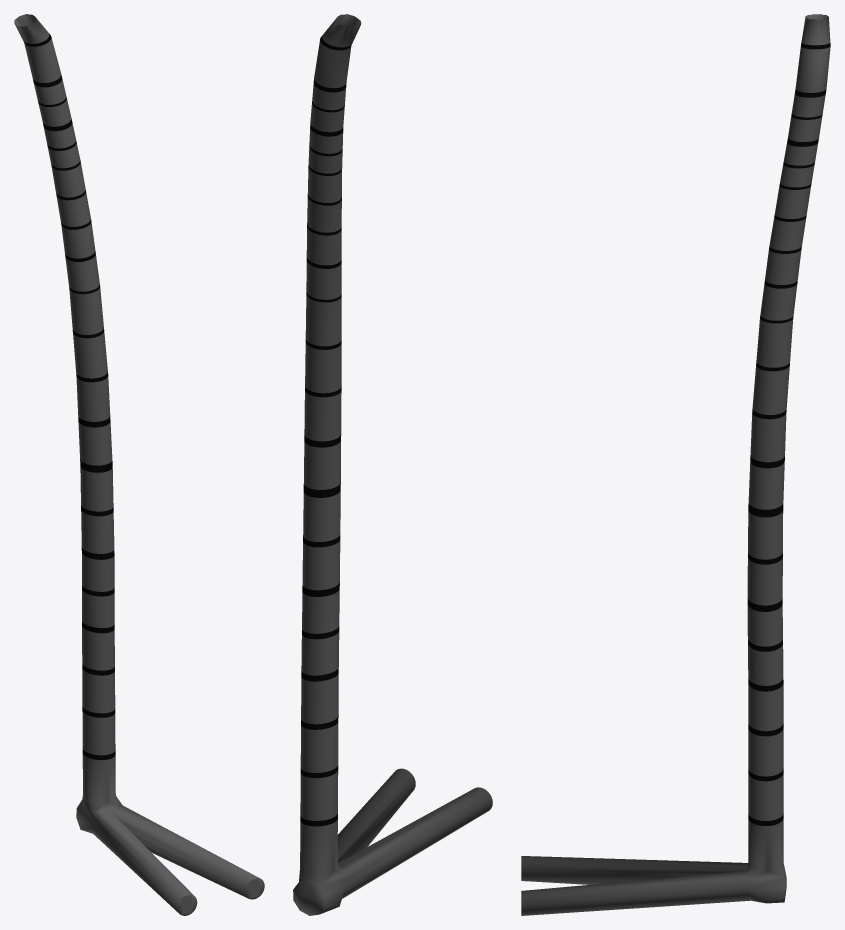
The model's file is Pierna_Izq.obj.
The picture shows the model from 3 angles, left to right: view 1: azimuth 30°, elevation 25°; view 2: azimuth 150°, elevation 25°; view 3: azimuth 270°, elevation 25°; orthographic projection. The views are drawn at different scales.
Visible parts, largest first — view 1: polySurface159; view 2: polySurface159; view 3: polySurface159.
Part boxes in pixels (bbox=[...]): polySurface159: bbox=[14, 14, 264, 915]; polySurface159: bbox=[293, 14, 492, 915]; polySurface159: bbox=[521, 14, 830, 915].
Size of the model in its own units: 0.163 by 1.14 by 0.373.
Materials: 2 (2 with a texture image).
